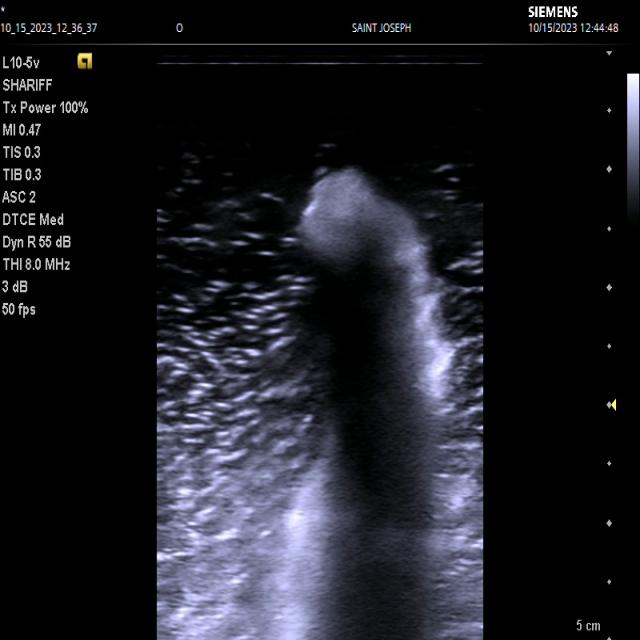tissue: (282, 166, 454, 640)
